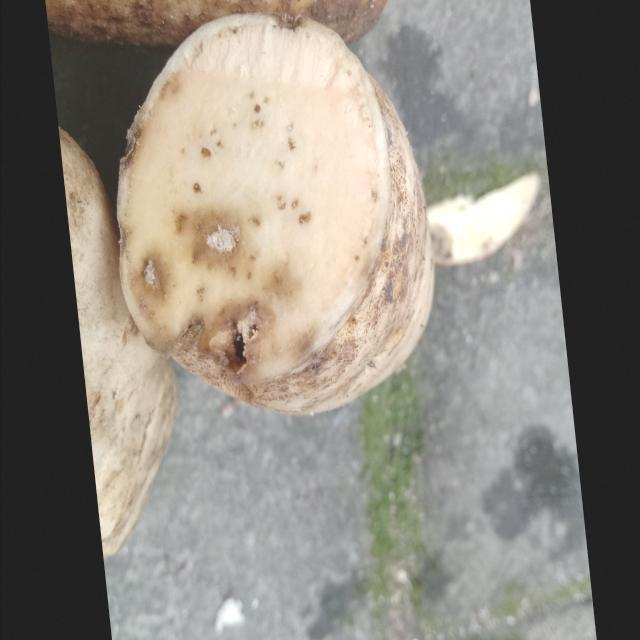Sick Sweet Potato_Tuber Rot: (116, 15, 389, 385)
